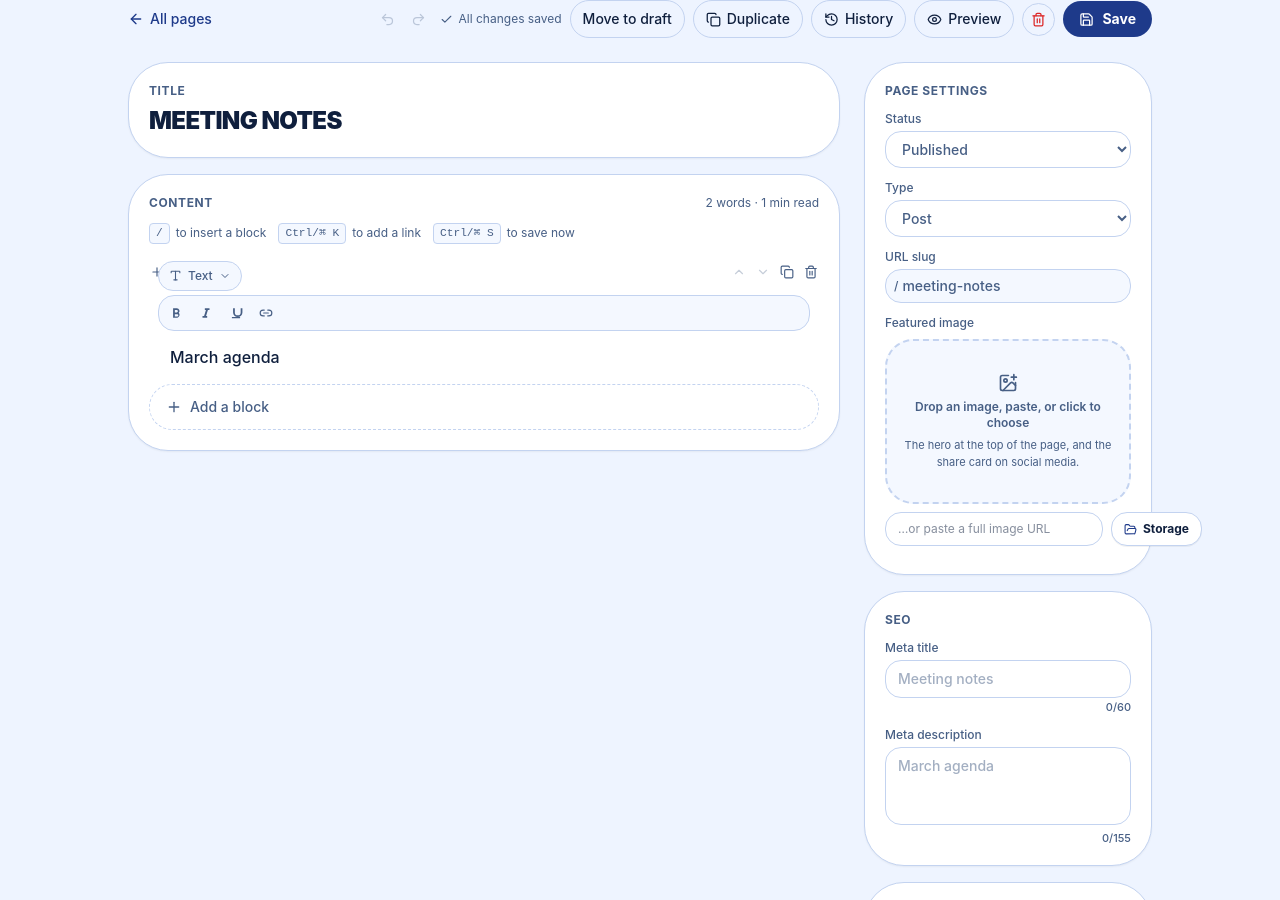
Scenario: ContentEditor preview › closes on the close button
Click the button "Preview": click(964, 19) [914,0,1014,38]
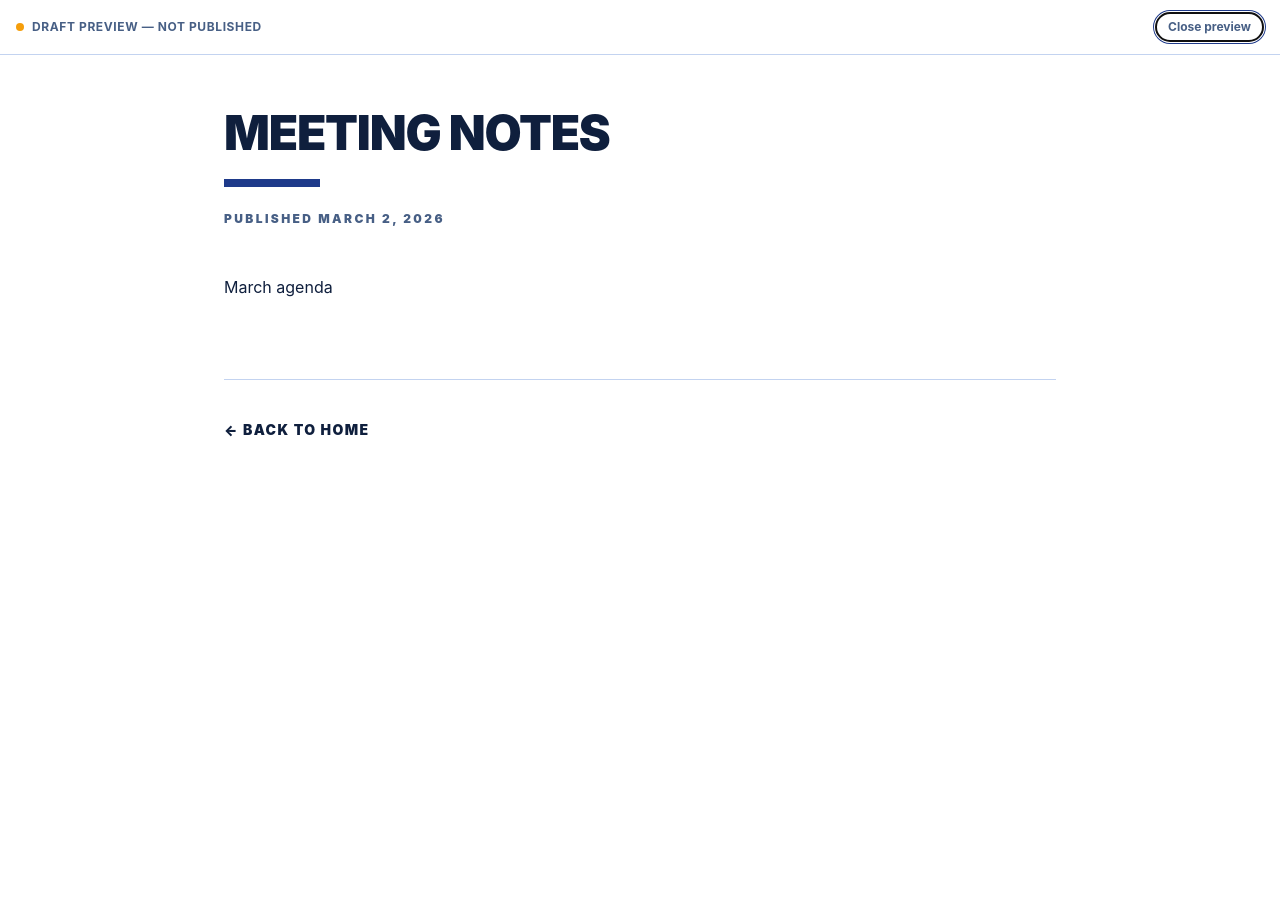
Expected: the dialog is shown
Click the button "Close preview": click(1210, 27) [1155,12,1264,42]
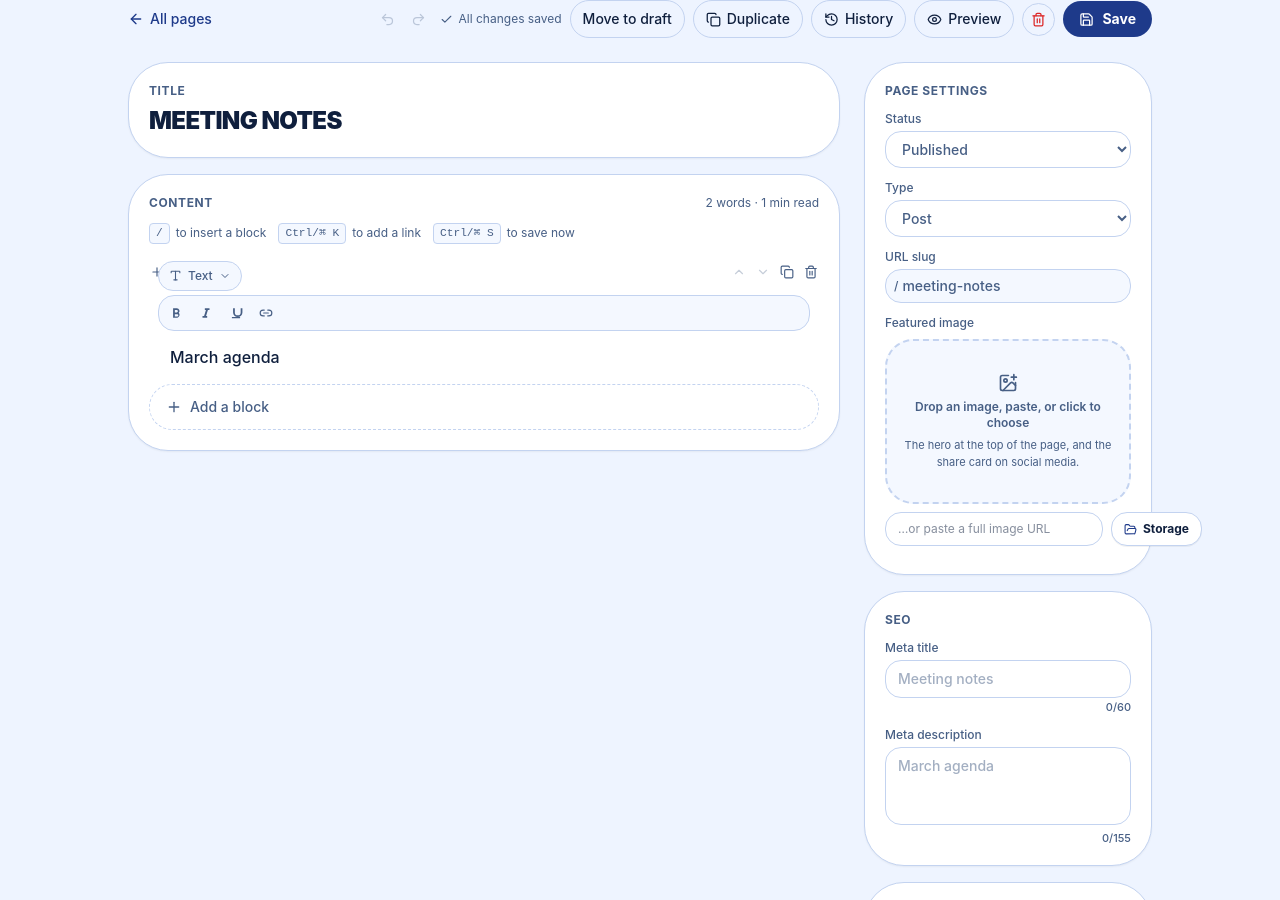
Expected: the dialog is gone
